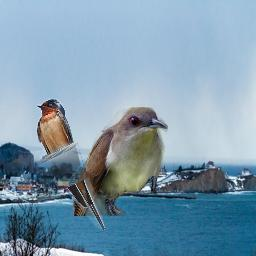Cuckoo: (73, 107, 168, 216)
Swallow: (36, 98, 105, 230)
